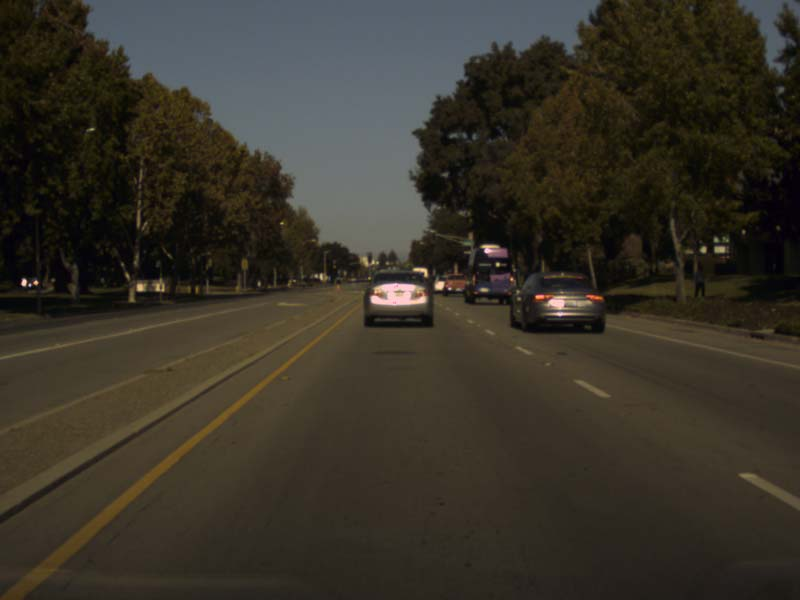Red: (332, 264, 336, 273), (367, 252, 371, 260)
